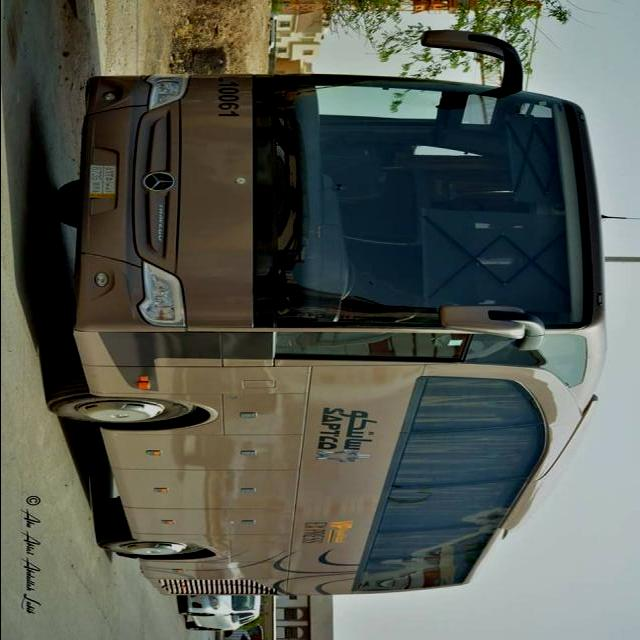bus: (44, 30, 606, 598)
